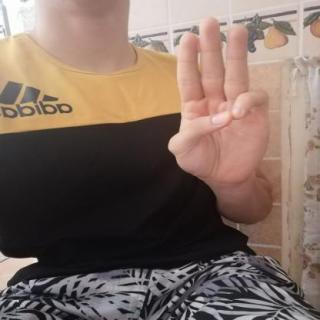THA: (151, 8, 284, 193)
